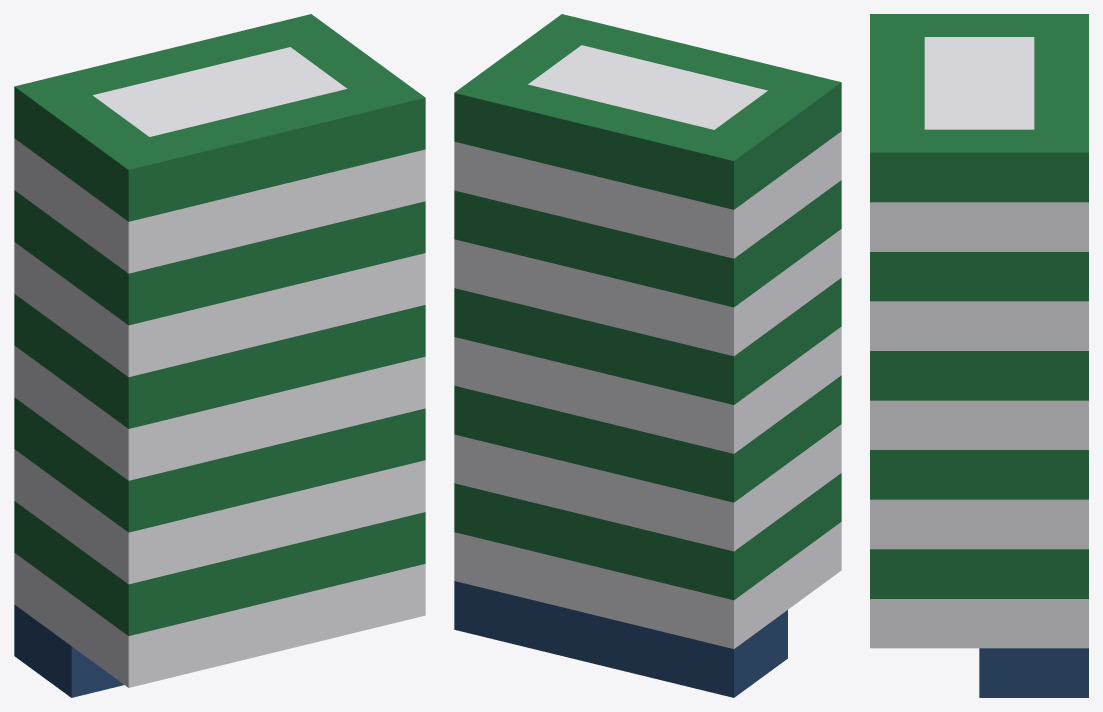
Rendered from torso.obj.
The picture shows the model from 3 angles, left to right: view 1: azimuth 30°, elevation 25°; view 2: azimuth 150°, elevation 25°; view 3: azimuth 270°, elevation 25°; orthographic projection. The views are drawn at different scales.
Size of the model in its own units: 0.6 by 1.1 by 0.4.
Materials: 1 (1 with a texture image).
